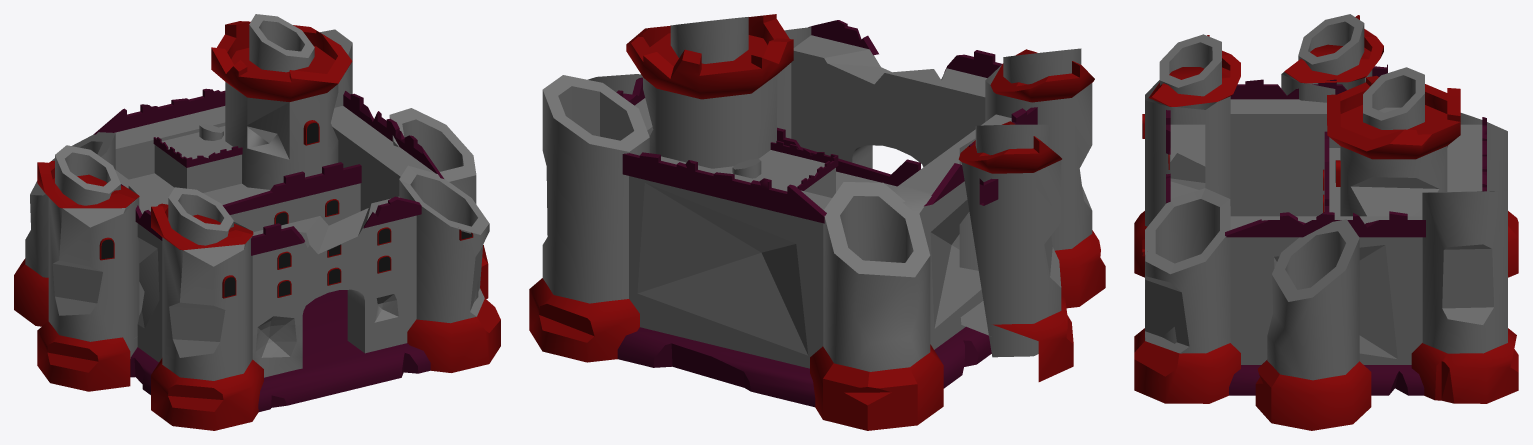
The model's file is Evil_Castle_UpgradeDouble_Stage3.fbx.
The picture shows the model from 3 angles, left to right: view 1: azimuth 30°, elevation 25°; view 2: azimuth 150°, elevation 25°; view 3: azimuth 270°, elevation 25°; orthographic projection. The views are drawn at different scales.
Parts seen in each view (by area): view 1: Evil_Castle_UpgradeDouble_Stage_3; view 2: Evil_Castle_UpgradeDouble_Stage_3; view 3: Evil_Castle_UpgradeDouble_Stage_3.
Boxes of the visible parts, <box> form: Evil_Castle_UpgradeDouble_Stage_3: <box>14,14,500,430</box>; Evil_Castle_UpgradeDouble_Stage_3: <box>529,14,1105,430</box>; Evil_Castle_UpgradeDouble_Stage_3: <box>1134,14,1518,430</box>.
Bounding box in the file's own units: 1091 × 647 × 832.
1 material, 1 textured.
